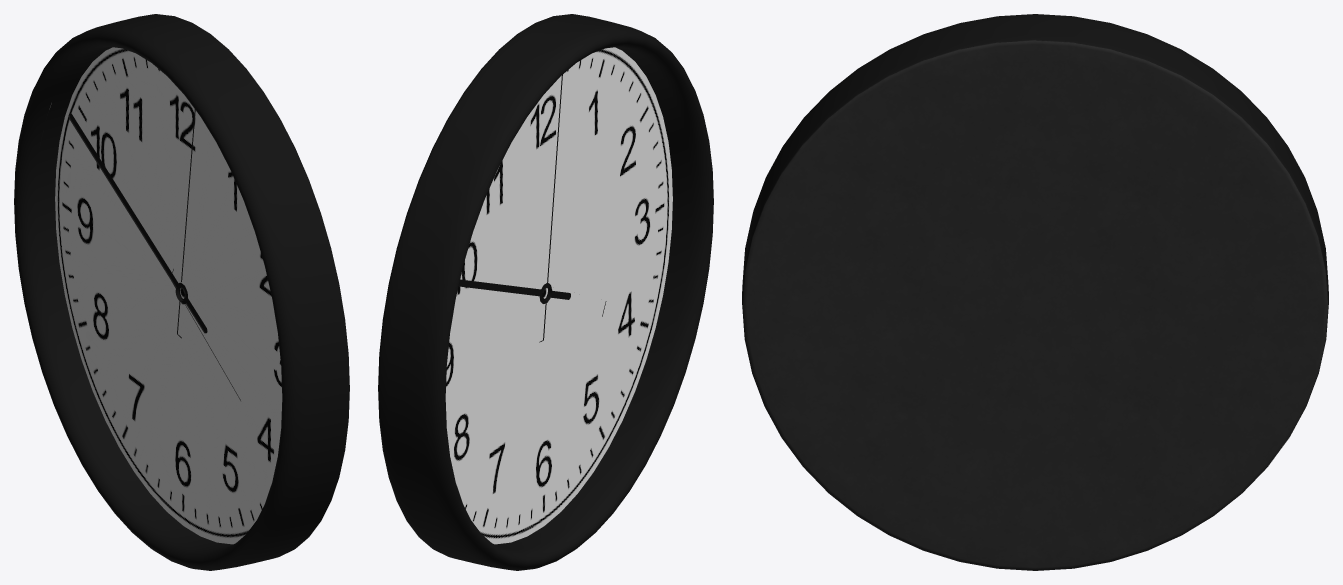
The model's file is Clock.fbx.
The picture shows the model from 3 angles, left to right: view 1: azimuth 30°, elevation 25°; view 2: azimuth 150°, elevation 25°; view 3: azimuth 270°, elevation 25°; orthographic projection. The views are drawn at different scales.
Parts seen in each view (by area): view 1: Circle.007, Circle.002, Plane.006; view 2: Circle.007, Circle.002, Plane.006; view 3: Circle.002.
Part boxes in pixels (box(x1,y1,x2,y2)): Circle.007: box(55, 47, 282, 544); Circle.002: box(14, 14, 349, 570); Plane.006: box(68, 113, 207, 333); Circle.007: box(445, 47, 672, 544); Circle.002: box(378, 14, 713, 570); Plane.006: box(458, 279, 570, 303); Circle.002: box(742, 14, 1328, 570).
Bounding box in the file's own units: 4.84 × 32.44 × 32.44.
1 material, 1 textured.
